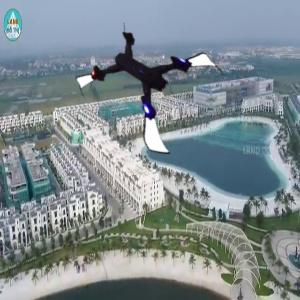drone: (92, 18, 218, 144)
